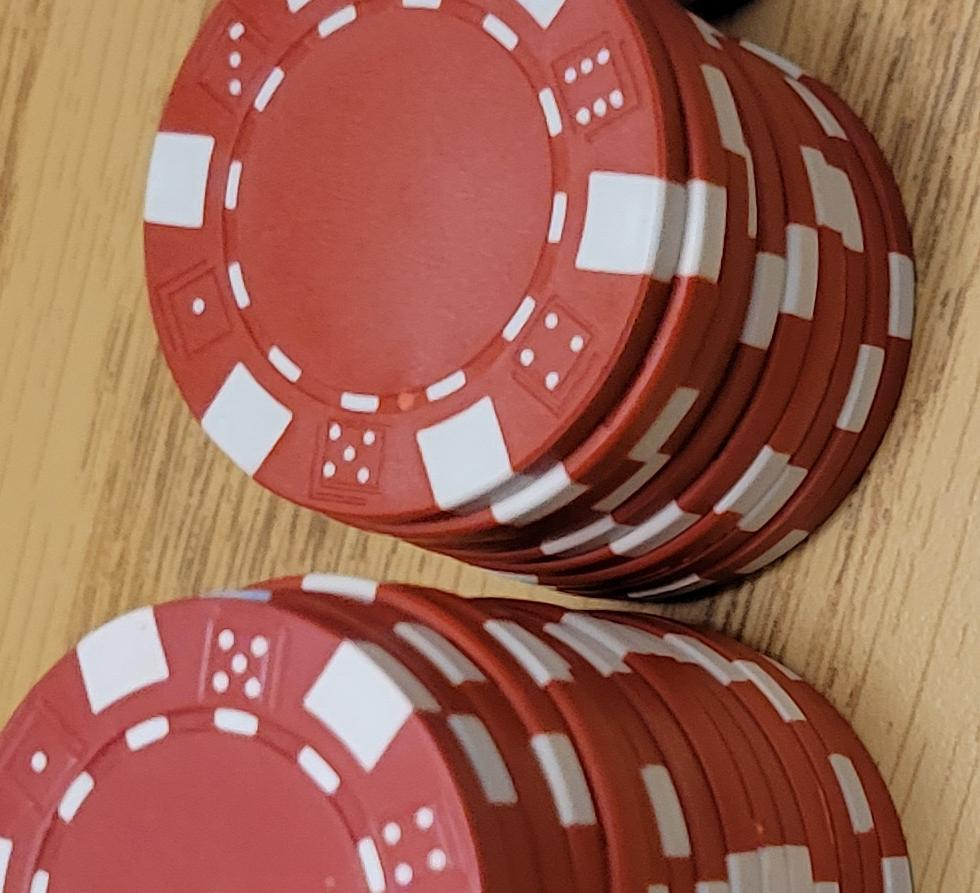Chip: (1, 270, 425, 893)
